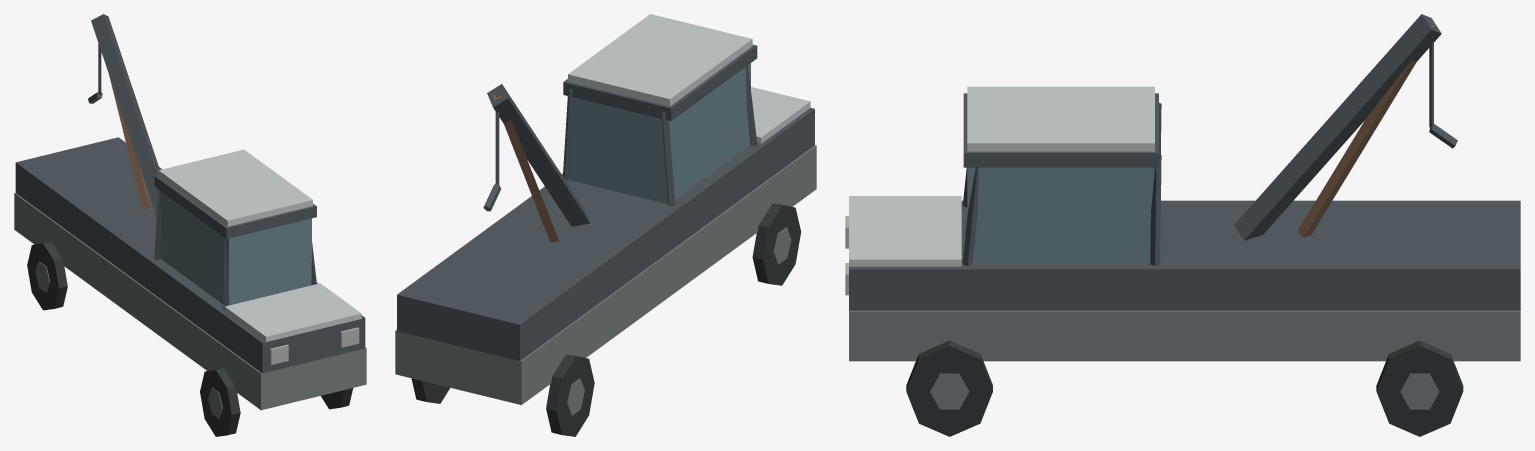
File: tow_truck.glb
The picture shows the model from 3 angles, left to right: view 1: azimuth 30°, elevation 25°; view 2: azimuth 150°, elevation 25°; view 3: azimuth 270°, elevation 25°; orthographic projection. The views are drawn at different scales.
Visible parts, largest first — view 1: tow_truck; view 2: tow_truck; view 3: tow_truck.
Boxes of the visible parts, bbox=[...] form: tow_truck: bbox=[14, 14, 366, 436]; tow_truck: bbox=[395, 14, 816, 436]; tow_truck: bbox=[845, 14, 1520, 436].
Bounding box in the file's own units: 0.8257 × 1.8 × 2.88.
